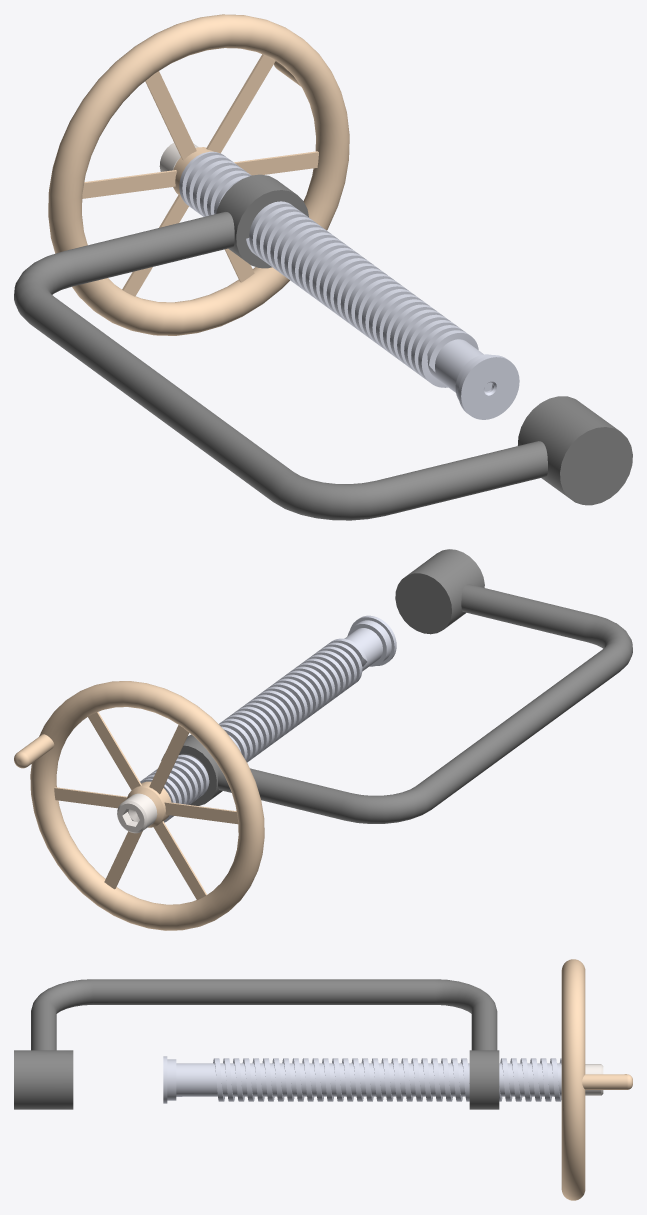
The model's file is c_clamp_ar.gltf.
The picture shows the model from 3 angles, top to bottom: view 1: azimuth 30°, elevation 25°; view 2: azimuth 150°, elevation 25°; view 3: azimuth 270°, elevation 25°; orthographic projection. The views are drawn at different scales.
Parts seen in each view (by area): view 1: Thread1, Fillet1, Chamfer3, Revolve1; view 2: Fillet1, Thread1, Chamfer3, ThdSchPat, Revolve1; view 3: Thread1, Chamfer3, Fillet1, Revolve1.
Boxes of the visible parts, left/top/right/bottom form: Thread1: left=14, top=174, right=632, bottom=520; Fillet1: left=48, top=14, right=349, bottom=335; Chamfer3: left=179, top=151, right=492, bottom=392; Revolve1: left=455, top=354, right=519, bottom=419; Fillet1: left=14, top=681, right=264, bottom=930; Thread1: left=161, top=549, right=632, bottom=823; Chamfer3: left=140, top=628, right=382, bottom=822; ThdSchPat: left=117, top=793, right=157, bottom=833; Revolve1: left=347, top=615, right=396, bottom=666; Thread1: left=14, top=979, right=499, bottom=1109; Chamfer3: left=176, top=1058, right=561, bottom=1101; Fillet1: left=561, top=959, right=632, bottom=1200; Revolve1: left=163, top=1056, right=176, bottom=1103.
Bounding box in the file's own units: 0.1724 × 0.1218 × 0.3124.
